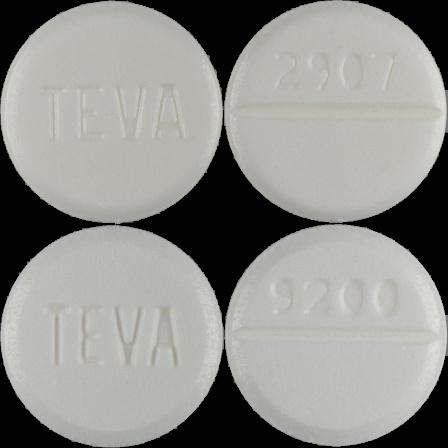66116-419: (0, 0, 224, 224)
